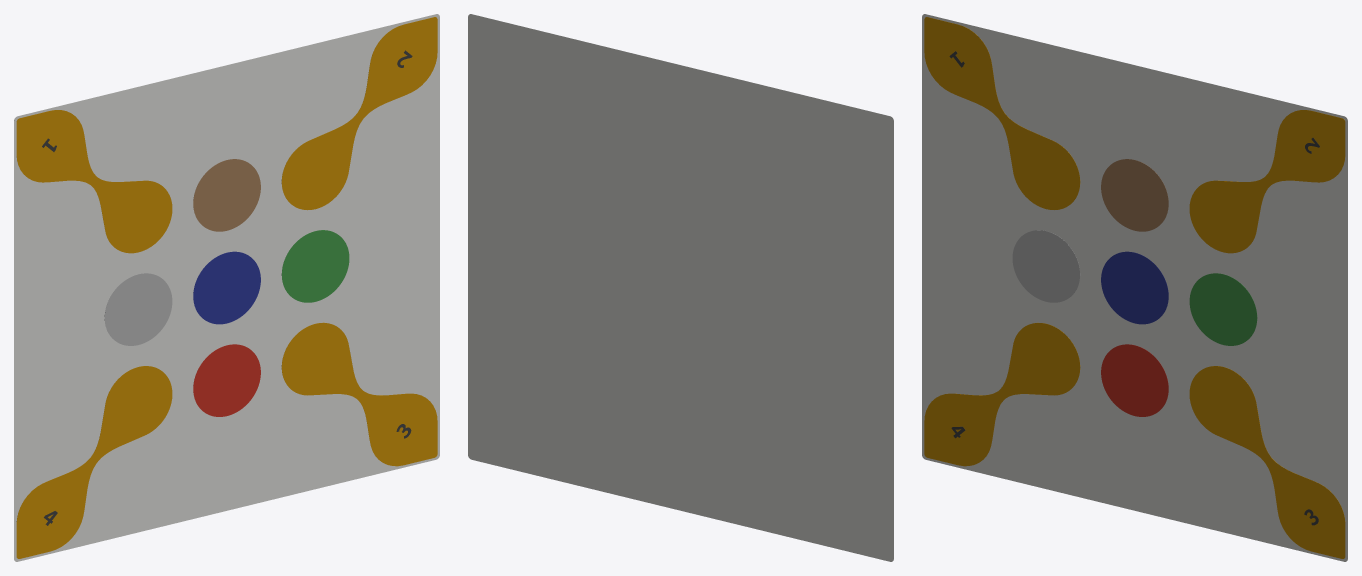
The model's file is Sureface1.fbx.
3 renders of one model, left to right at view 1: azimuth 30°, elevation 25°; view 2: azimuth 150°, elevation 25°; view 3: azimuth 330°, elevation 25°, orthographic.
Visible parts, largest first — view 1: Body14, Body2, Body4, Body1, Body3, Body8, Body5, Body6, Body7, Body9; view 2: Body14; view 3: Body14, Body1, Body3, Body2, Body4, Body6, Body5, Body7, Body8, Body9.
Part boxes in pixels (x1,y1,x2,y2): Body14: (14,14,439,561); Body2: (281,17,437,210); Body4: (16,366,172,558); Body1: (16,110,172,253); Body3: (281,322,437,466); Body8: (104,273,172,345); Body5: (193,344,260,416); Body6: (281,230,349,302); Body7: (193,251,260,324); Body9: (193,159,260,231); Body14: (468,14,893,561); Body14: (922,14,1347,561); Body1: (924,17,1080,209); Body3: (1189,366,1345,558); Body2: (1189,110,1345,253); Body4: (924,322,1080,466); Body6: (1189,273,1257,345); Body5: (1101,344,1168,416); Body7: (1101,251,1168,324); Body8: (1012,230,1080,302); Body9: (1101,159,1168,231).
Size of the model in its own units: 265 by 264 by 0.3.
